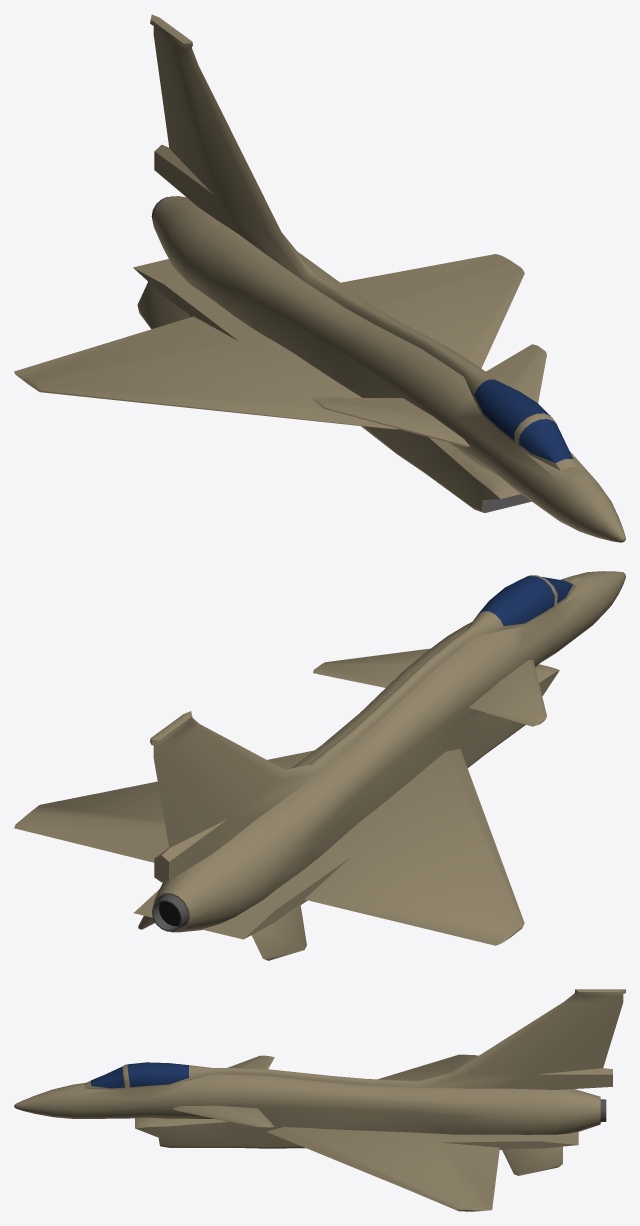
3 renders of one model, top to bottom at view 1: azimuth 30°, elevation 25°; view 2: azimuth 150°, elevation 25°; view 3: azimuth 270°, elevation 25°, orthographic. The views are drawn at different scales.
Parts seen in each view (by area): view 1: J10A.001; view 2: J10A.001; view 3: J10A.001.
Boxes of the visible parts, left/top/right/bottom form: J10A.001: left=14, top=14, right=625, bottom=542; J10A.001: left=14, top=571, right=625, bottom=960; J10A.001: left=14, top=989, right=625, bottom=1211.
Bounding box in the file's own units: 9.75 × 4.86 × 16.39.
